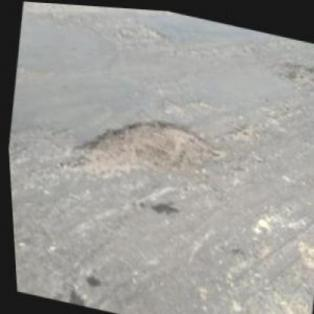Hueco: (57, 95, 222, 202), (270, 52, 313, 92), (113, 16, 169, 44)
